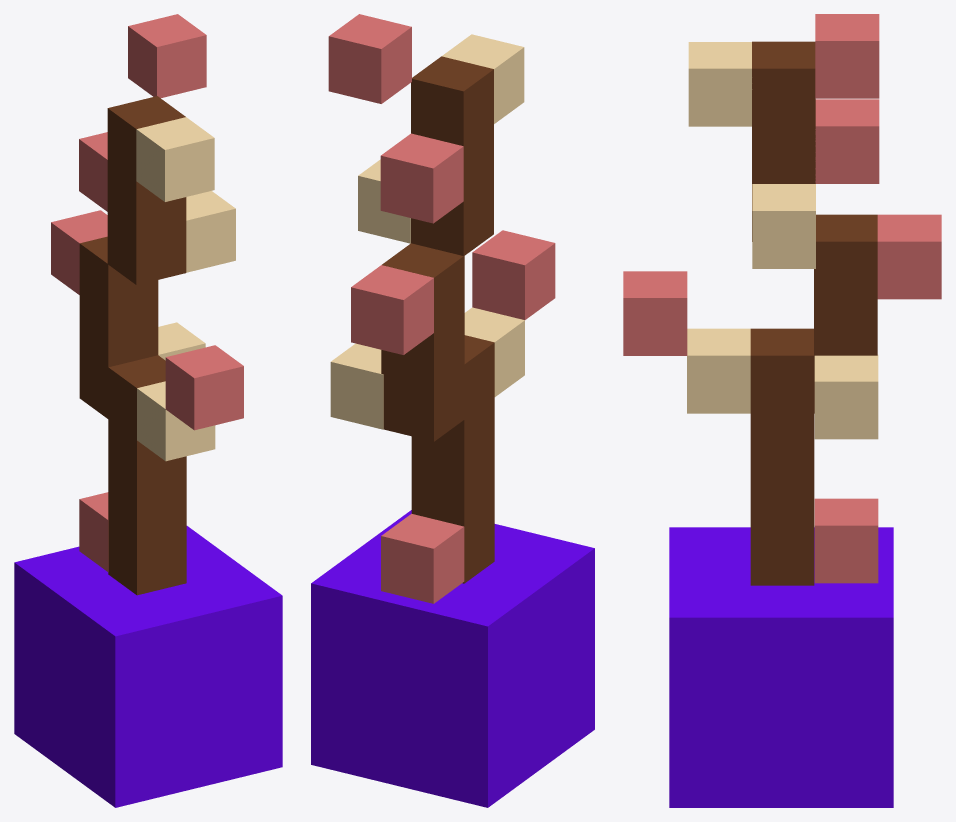
Rendered from plant_3.FBX.
3 renders of one model, left to right at view 1: azimuth 30°, elevation 25°; view 2: azimuth 150°, elevation 25°; view 3: azimuth 270°, elevation 25°, orthographic. The views are drawn at different scales.
Visible parts, largest first — view 1: plant_3; view 2: plant_3; view 3: plant_3.
Part boxes in pixels (left/top/right/bottom): plant_3: left=14, top=14, right=282, bottom=807; plant_3: left=311, top=14, right=594, bottom=807; plant_3: left=623, top=14, right=941, bottom=807.
Size of the model in its own units: 6.71 by 26.35 by 9.98.
1 material, 1 textured.
